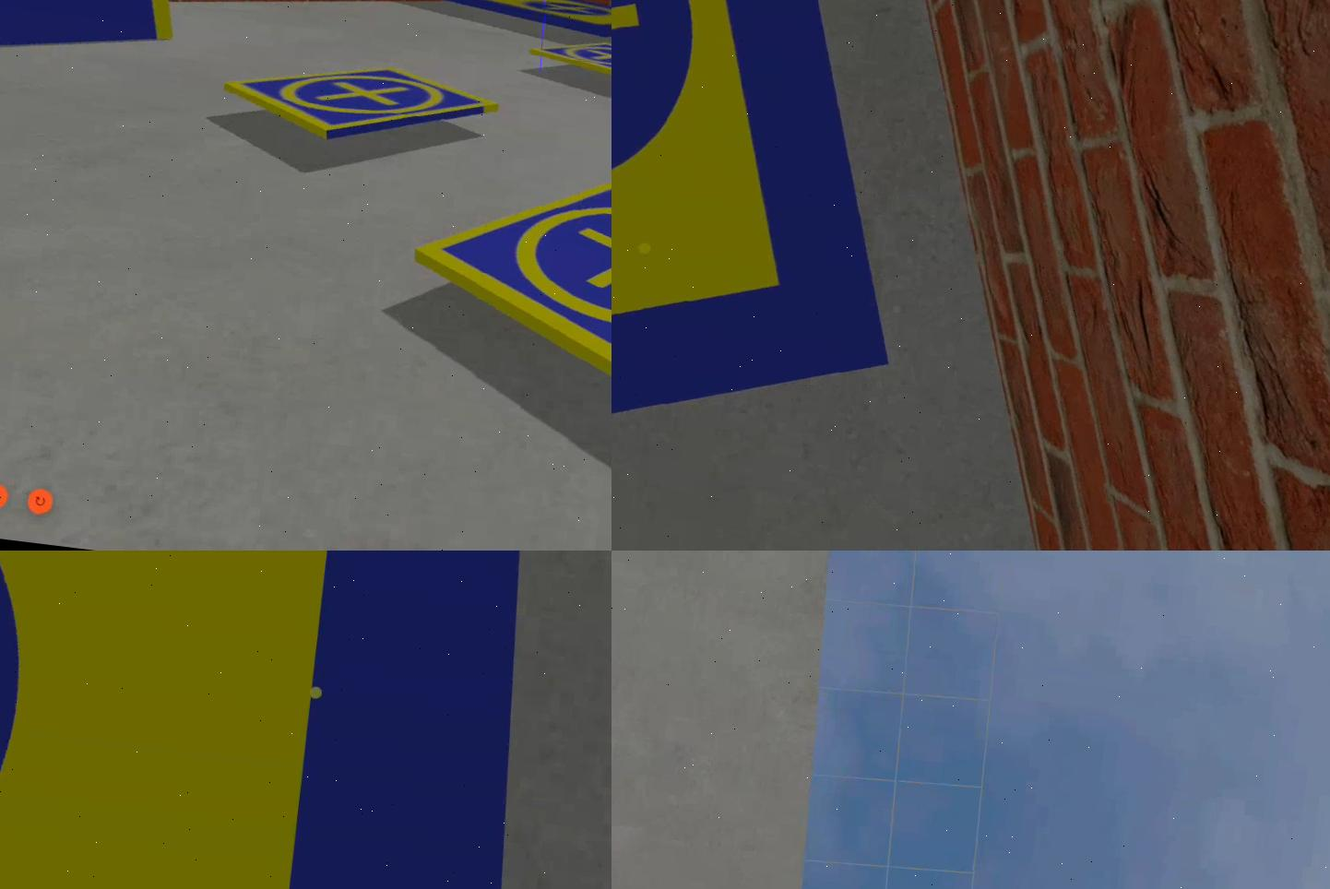large_base: (1, 551, 595, 889), (612, 1, 946, 527), (424, 1, 612, 56)
small_base: (399, 158, 612, 445), (220, 44, 508, 163), (529, 31, 612, 91)
